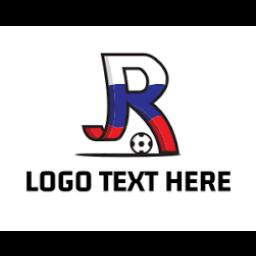e: (114, 168, 128, 192)
g: (58, 168, 74, 190)
h: (166, 168, 184, 192)
l: (25, 168, 39, 192)
o: (39, 168, 57, 192)
r: (76, 46, 182, 158), (200, 168, 218, 192)
t: (97, 167, 113, 193)
x: (126, 169, 146, 191)
